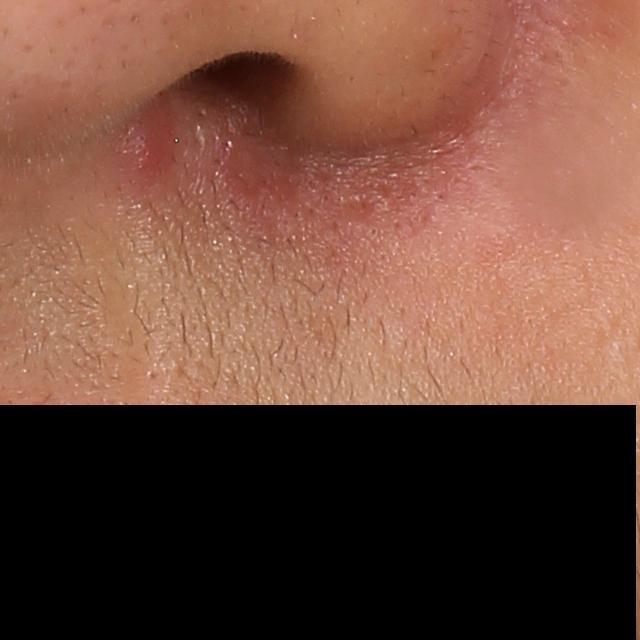papule: (118, 100, 188, 186)
